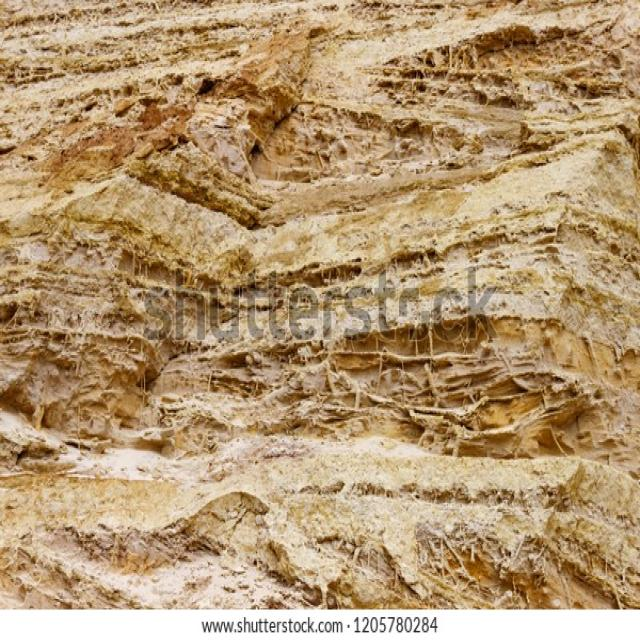Alluvial Soil: (7, 41, 157, 547)
